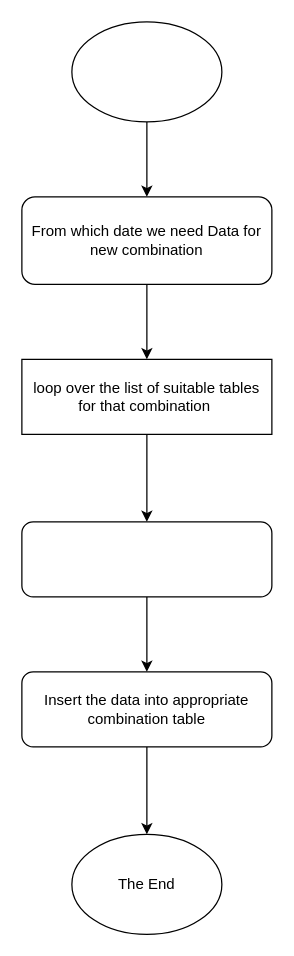
This 294x956 diagram has some shape labels left out. The shapes that lost their labels are listed below. From the top down, each one's centre as x and y in pixels, then its label:
pixel 146 71: Start
pixel 146 559: Loop over all the file
